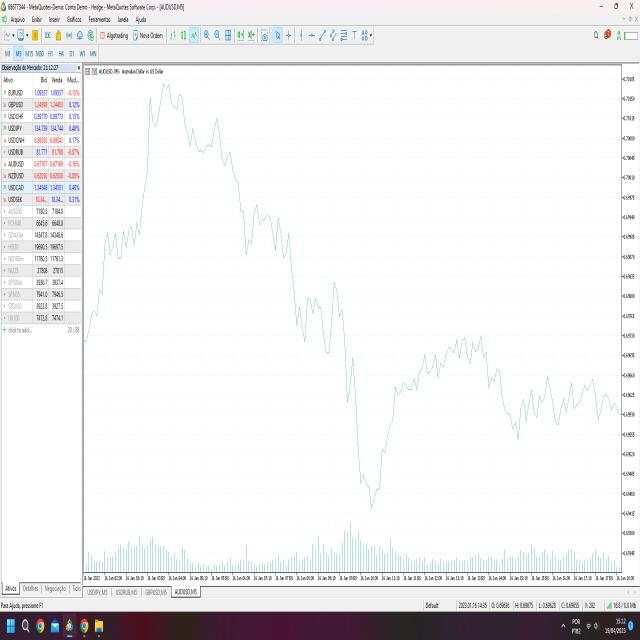bandeira_alta: (86, 194, 140, 373)
bandeira_baixa: (227, 138, 297, 273)
